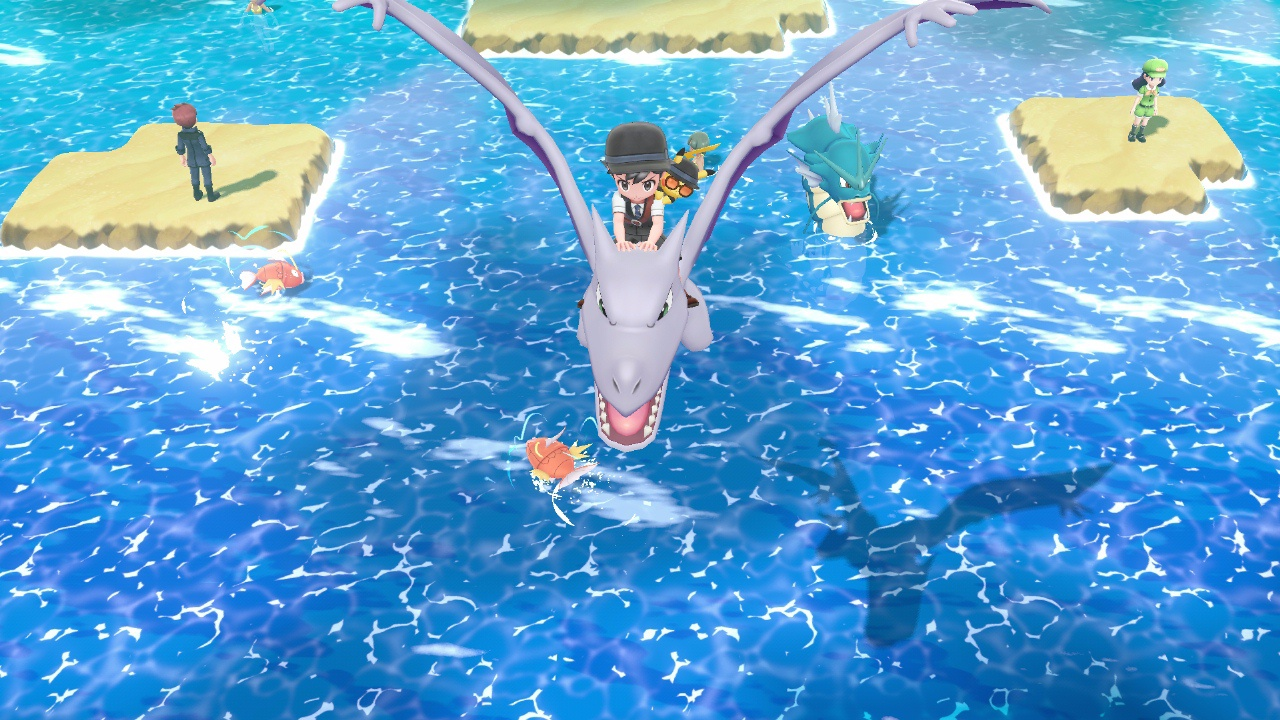Red: (526, 435, 592, 491), (236, 255, 306, 297)
